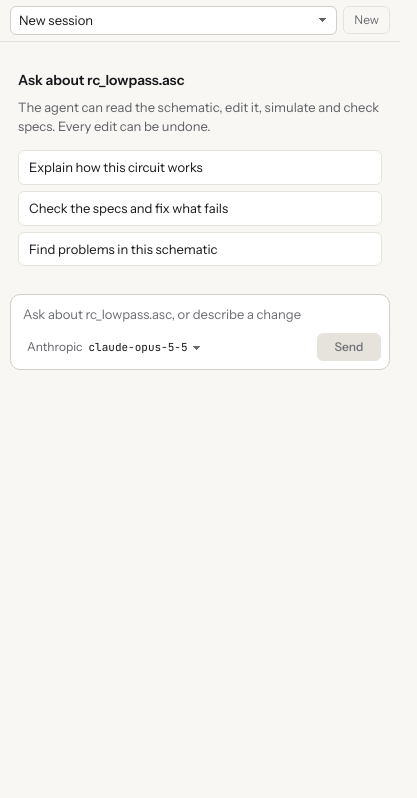
Test: ChatPanel › sends on Enter, keeps a newline on Shift+Enter, and streams the turn
Type "Move the corner" into the text box named "Message" at (200, 315), box left=19, top=303, right=381, bottom=327
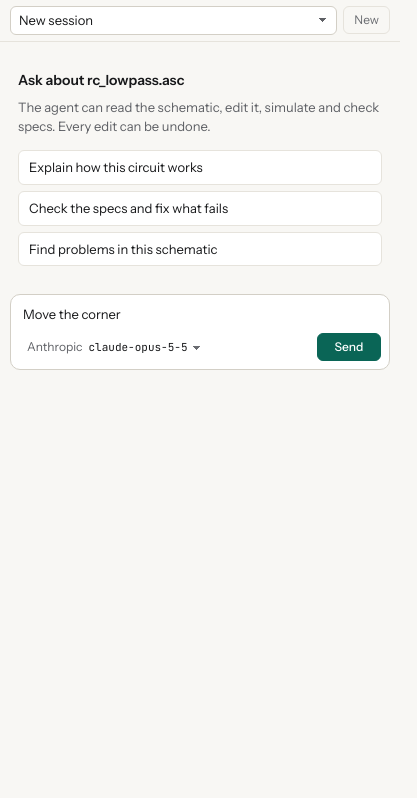
Press Enter in the text box named "Message", box left=19, top=303, right=381, bottom=327
Press Enter in the text box named "Message", box left=19, top=303, right=381, bottom=327
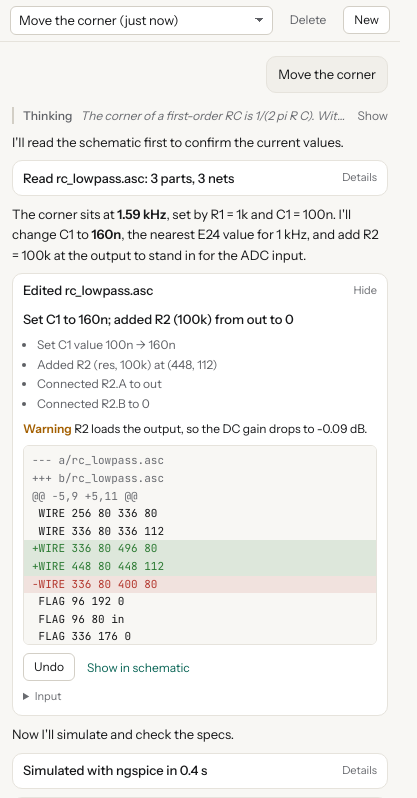
Now the button "Edited rc_lowpass.asc Hide" is shown, box left=13, top=274, right=387, bottom=308
